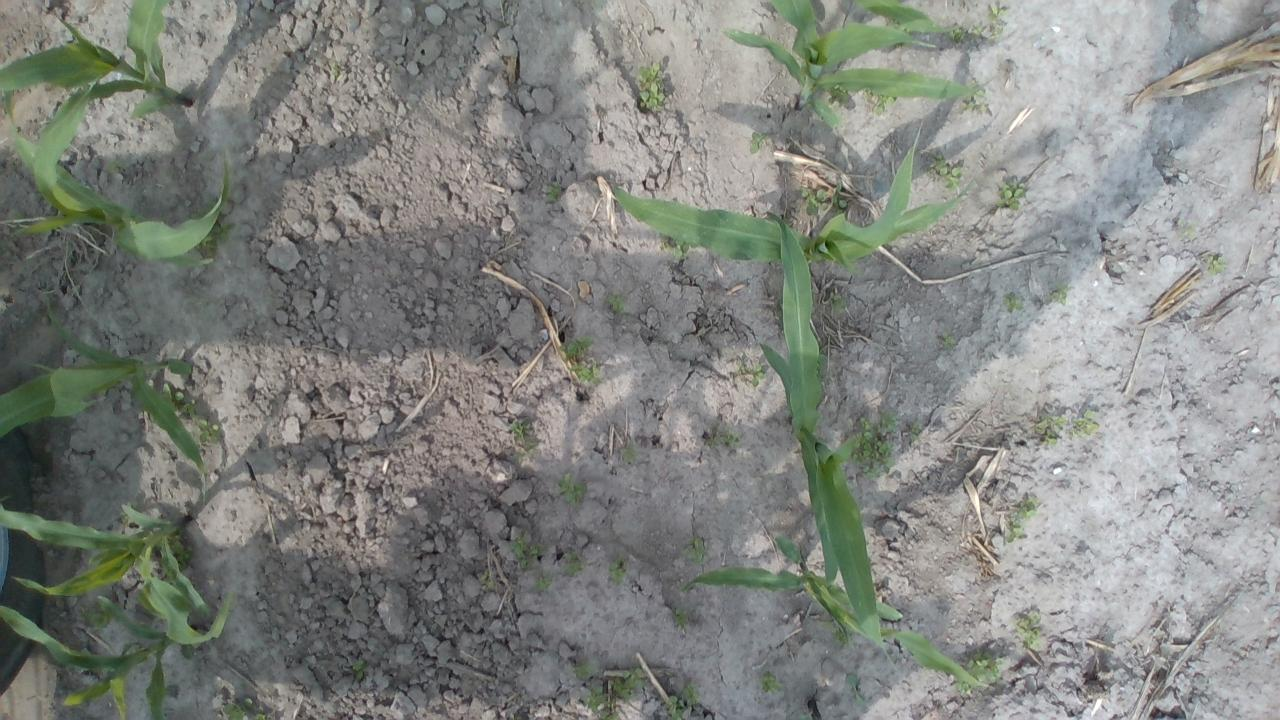Maize: (760, 206, 899, 666), (606, 118, 976, 276), (702, 524, 992, 694), (1, 0, 198, 212), (3, 286, 212, 480), (0, 120, 234, 268), (0, 496, 237, 642), (723, 0, 985, 129), (0, 594, 189, 718)
Weeds: (132, 380, 225, 459), (852, 407, 920, 486), (574, 656, 638, 715), (946, 0, 1010, 50), (956, 651, 1002, 698), (566, 335, 604, 385), (1007, 495, 1045, 538), (663, 679, 704, 715), (800, 188, 849, 217), (636, 59, 664, 109), (932, 150, 964, 192), (163, 528, 194, 570), (1020, 608, 1049, 650), (1034, 410, 1071, 442), (214, 700, 266, 720), (997, 176, 1026, 208), (965, 78, 993, 110), (706, 427, 739, 453), (1074, 408, 1100, 439), (741, 354, 764, 388), (1208, 248, 1232, 280), (560, 548, 584, 580), (556, 478, 582, 507), (508, 534, 534, 562), (869, 88, 898, 112), (680, 540, 706, 564), (828, 289, 850, 317), (507, 417, 526, 446), (1177, 219, 1198, 244), (1049, 285, 1072, 307), (535, 568, 552, 594), (750, 128, 767, 154), (610, 555, 628, 579), (1006, 293, 1024, 316), (546, 178, 564, 198), (766, 668, 776, 704), (608, 290, 623, 310), (355, 658, 365, 682), (672, 608, 686, 625), (939, 338, 965, 346)
